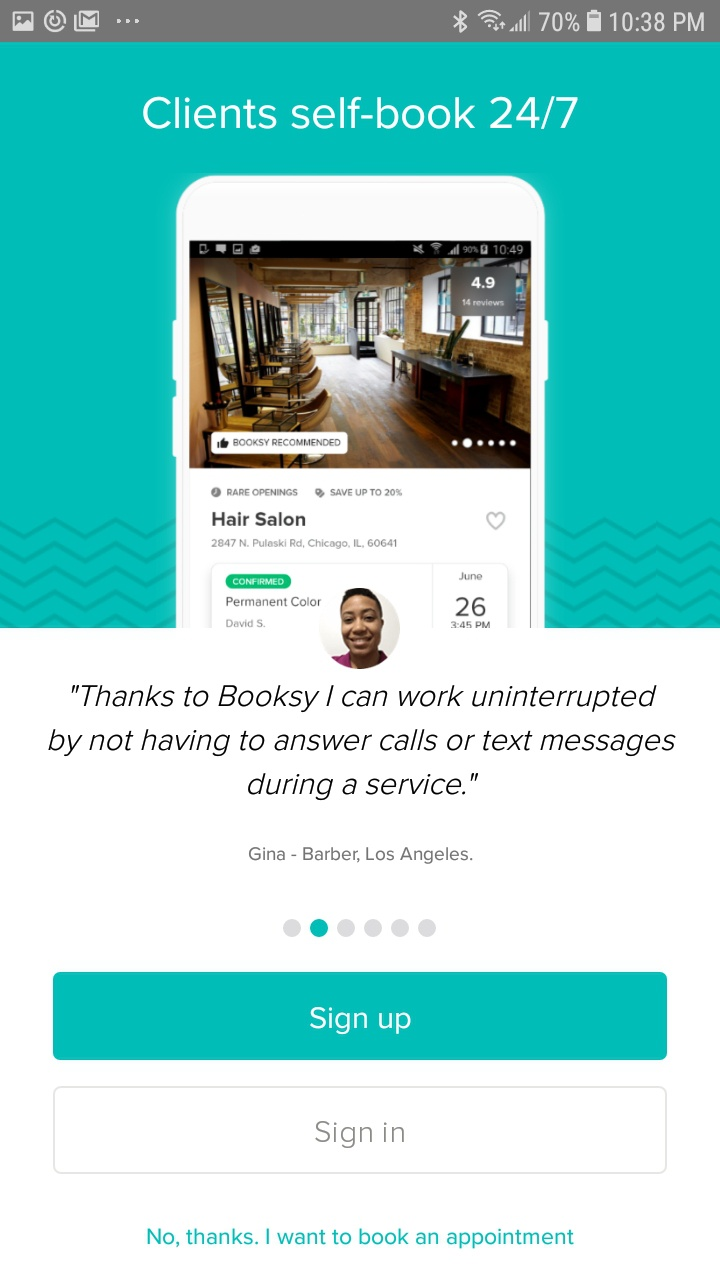Image: (172, 176, 549, 629), (319, 588, 401, 670)
PageIndicator: (283, 918, 437, 938)
Text: (48, 685, 676, 801), (143, 97, 579, 131), (148, 1227, 575, 1249), (248, 845, 472, 864)
TextButton: (54, 972, 668, 1061), (54, 1086, 667, 1174)
UpperTaskBar: (1, 1, 720, 43)
